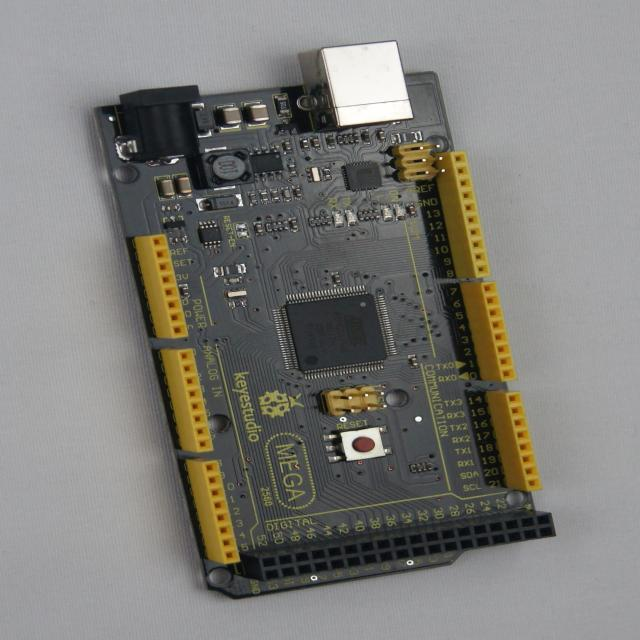Arduino Mega 2560 -Yellow-: (96, 42, 556, 598)
